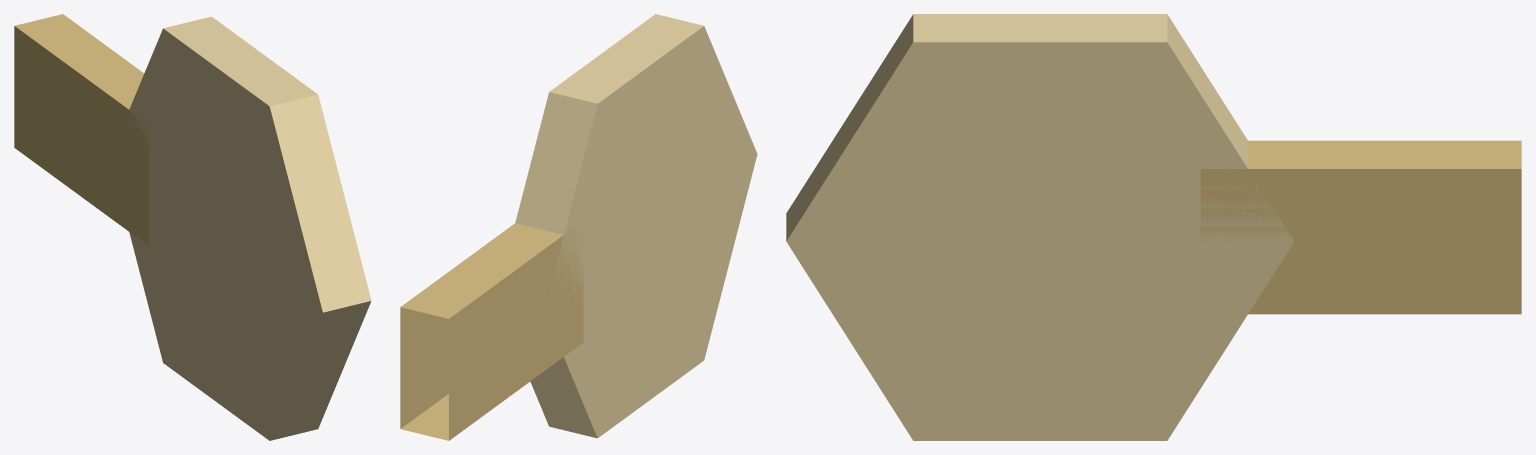
File: latch_key.glb
3 renders of one model, left to right at view 1: azimuth 30°, elevation 25°; view 2: azimuth 150°, elevation 25°; view 3: azimuth 270°, elevation 25°, orthographic. The views are drawn at different scales.
Visible parts, largest first — view 1: LatchKey; view 2: LatchKey; view 3: LatchKey.
Part boxes in pixels (left/top/right/bottom): LatchKey: left=14, top=14, right=371, bottom=440; LatchKey: left=400, top=14, right=757, bottom=440; LatchKey: left=786, top=14, right=1521, bottom=440.
Size of the model in its own units: 0.005 by 0.0329 by 0.055.
